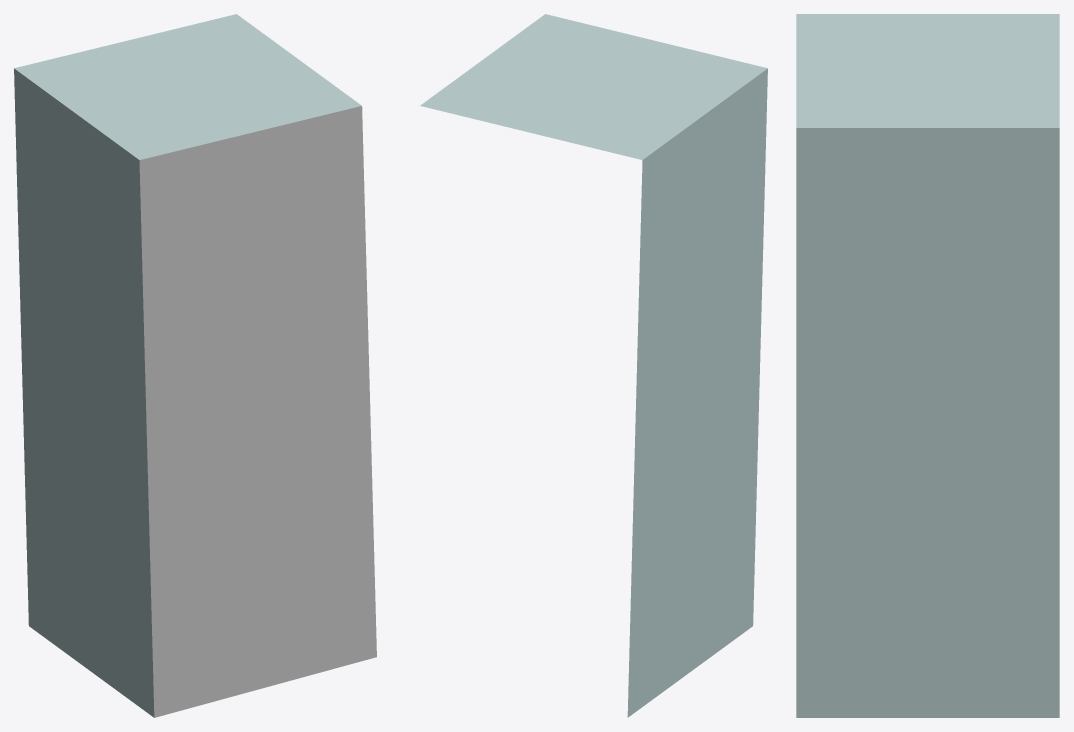
The picture shows the model from 3 angles, left to right: view 1: azimuth 30°, elevation 25°; view 2: azimuth 150°, elevation 25°; view 3: azimuth 270°, elevation 25°; orthographic projection. The views are drawn at different scales.
Visible parts, largest first — view 1: 0_0_2_1_1_0_1_0_2; view 2: 0_0_2_1_1_0_1_0_2; view 3: 0_0_2_1_1_0_1_0_2.
Boxes of the visible parts, bbox=[...] form: 0_0_2_1_1_0_1_0_2: bbox=[14, 14, 376, 717]; 0_0_2_1_1_0_1_0_2: bbox=[420, 14, 767, 717]; 0_0_2_1_1_0_1_0_2: bbox=[796, 14, 1059, 717].
Size of the model in its own units: 3.28 by 7.4 by 3.
